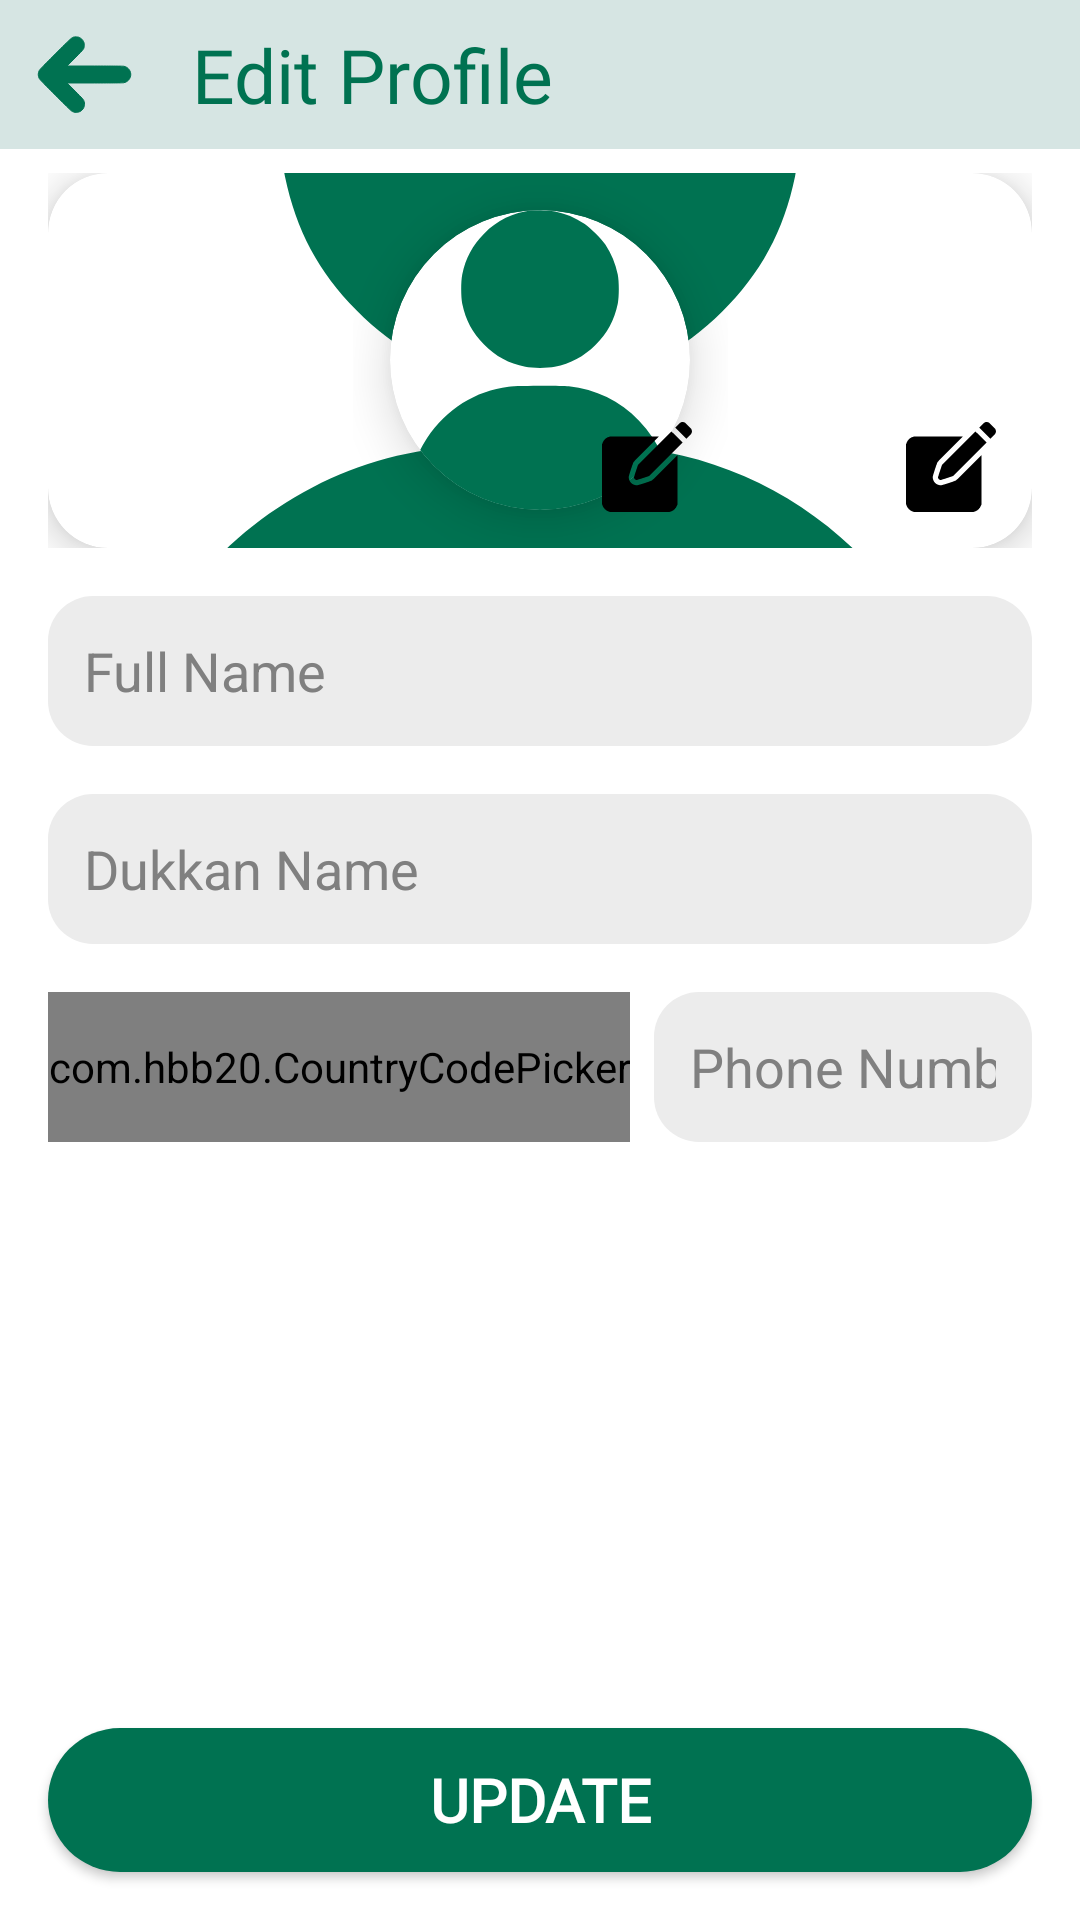

Icons on this 1080x1920 Android screen, each with its box as (x1, y1, x2, y2):
back: (37, 36, 132, 113)
